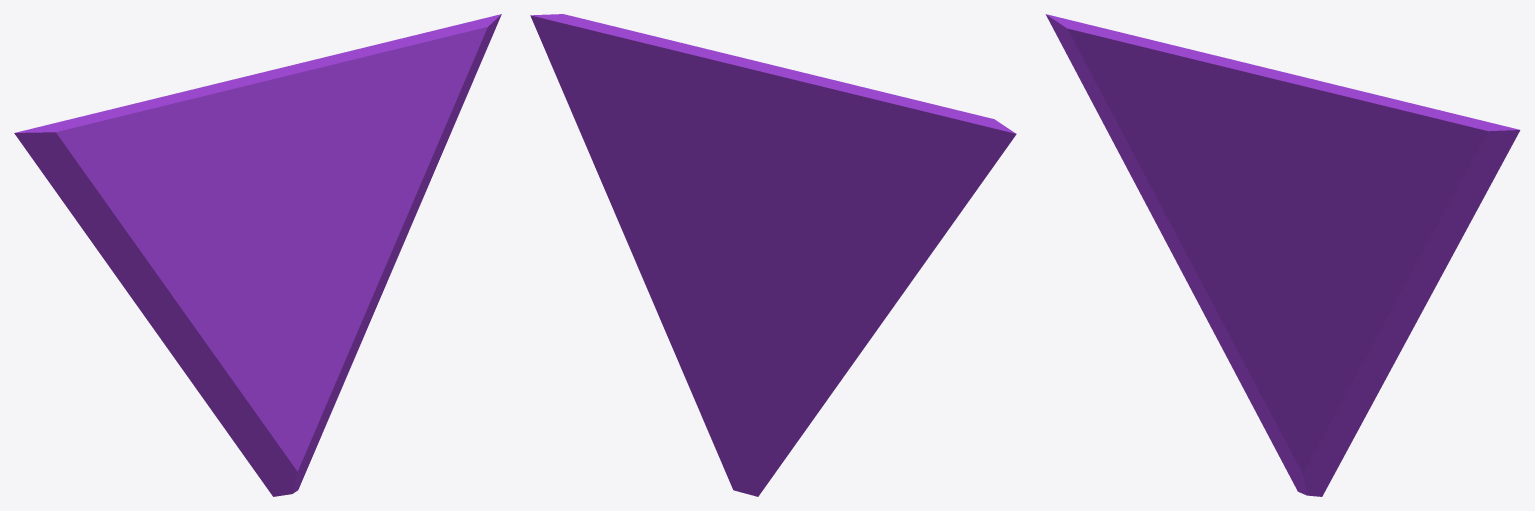
The model's file is Glass_1_2_chunks.fbx.
The picture shows the model from 3 angles, left to right: view 1: azimuth 30°, elevation 25°; view 2: azimuth 150°, elevation 25°; view 3: azimuth 330°, elevation 25°; orthographic projection. The views are drawn at different scales.
Visible parts, largest first — view 1: Glass_1_2_1, Glass_1_2_0, Glass_1_2_9, Glass_1_2_2, Glass_1_2_6, Glass_1_2_12, Glass_1_2_3, Glass_1_2_11, Glass_1_2_7, Glass_1_2_8, Glass_1_2_10, Glass_1_2_5; view 2: Glass_1_2_0, Glass_1_2_1, Glass_1_2_6, Glass_1_2_3, Glass_1_2_9, Glass_1_2_2, Glass_1_2_12, Glass_1_2_5, Glass_1_2_10, Glass_1_2_8, Glass_1_2_11, Glass_1_2_4; view 3: Glass_1_2_1, Glass_1_2_0, Glass_1_2_9, Glass_1_2_6, Glass_1_2_2, Glass_1_2_12, Glass_1_2_3, Glass_1_2_8, Glass_1_2_11, Glass_1_2_7, Glass_1_2_10, Glass_1_2_5.
Boxes of the visible parts, x1,y1,x2,y2 form: Glass_1_2_1: (266, 18, 496, 294); Glass_1_2_0: (145, 285, 333, 496); Glass_1_2_9: (14, 92, 204, 204); Glass_1_2_2: (68, 209, 240, 316); Glass_1_2_6: (292, 208, 385, 412); Glass_1_2_12: (182, 57, 325, 147); Glass_1_2_3: (221, 57, 325, 291); Glass_1_2_11: (172, 147, 269, 211); Glass_1_2_7: (365, 78, 467, 222); Glass_1_2_8: (375, 109, 460, 308); Glass_1_2_10: (56, 175, 181, 211); Glass_1_2_5: (456, 14, 501, 115); Glass_1_2_0: (701, 284, 885, 496); Glass_1_2_1: (542, 14, 745, 241); Glass_1_2_6: (656, 198, 759, 413); Glass_1_2_3: (705, 58, 815, 295); Glass_1_2_9: (847, 83, 1016, 191); Glass_1_2_2: (803, 209, 962, 316); Glass_1_2_12: (706, 58, 849, 154); Glass_1_2_5: (530, 15, 700, 206); Glass_1_2_10: (833, 140, 974, 210); Glass_1_2_8: (570, 109, 662, 309); Glass_1_2_11: (780, 154, 846, 207); Glass_1_2_4: (811, 200, 860, 260); Glass_1_2_1: (1272, 87, 1509, 298); Glass_1_2_0: (1173, 254, 1353, 496); Glass_1_2_9: (1045, 14, 1212, 129); Glass_1_2_6: (1297, 249, 1397, 437); Glass_1_2_2: (1098, 114, 1246, 271); Glass_1_2_12: (1209, 54, 1347, 145); Glass_1_2_3: (1228, 88, 1348, 277); Glass_1_2_8: (1386, 202, 1481, 357); Glass_1_2_11: (1180, 115, 1275, 184); Glass_1_2_7: (1369, 172, 1472, 271); Glass_1_2_10: (1086, 91, 1189, 160); Glass_1_2_5: (1471, 125, 1520, 206).
Bounding box in the file's own units: 795 × 665 × 27.2.
